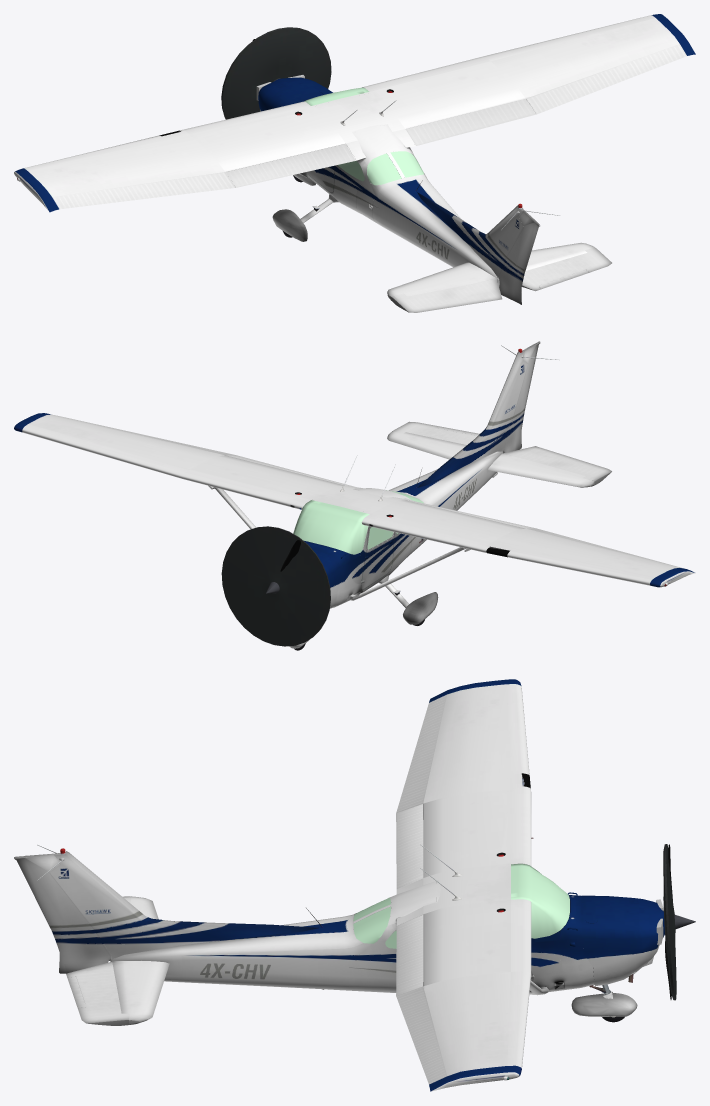
3 renders of one model, top to bottom at view 1: azimuth 30°, elevation 25°; view 2: azimuth 150°, elevation 25°; view 3: azimuth 270°, elevation 25°, orthographic. The views are drawn at different scales.
Parts seen in each view (by area): view 1: courtesyoff, Antenna_ADF, rudder_1, Propeller.Fast, glas; view 2: courtesyoff, Propeller.Fast, Antenna_ADF, rudder_1, glas; view 3: courtesyoff, Antenna_ADF, rudder_1, glas, Propeller.Fast.
Boxes of the visible parts, x1=… form: courtesyoff: x1=14, y1=14, x2=695, y2=212; Antenna_ADF: x1=17, y1=39, x2=559, y2=286; rudder_1: x1=387, y1=192, x2=611, y2=312; Propeller.Fast: x1=221, y1=27, x2=331, y2=119; glas: x1=304, y1=87, x2=423, y2=185; courtesyoff: x1=14, y1=413, x2=695, y2=587; Propeller.Fast: x1=221, y1=526, x2=330, y2=646; Antenna_ADF: x1=213, y1=345, x2=667, y2=650; rudder_1: x1=387, y1=341, x2=611, y2=487; glas: x1=293, y1=490, x2=423, y2=554; courtesyoff: x1=396, y1=679, x2=531, y2=1091; Antenna_ADF: x1=14, y1=774, x2=695, y2=1080; rudder_1: x1=14, y1=851, x2=318, y2=1025; glas: x1=353, y1=863, x2=569, y2=948; Propeller.Fast: x1=663, y1=844, x2=676, y2=1000.
Bounding box in the file's own units: 11.32 × 2.31 × 8.25.
Materials: 12 (8 with a texture image).
